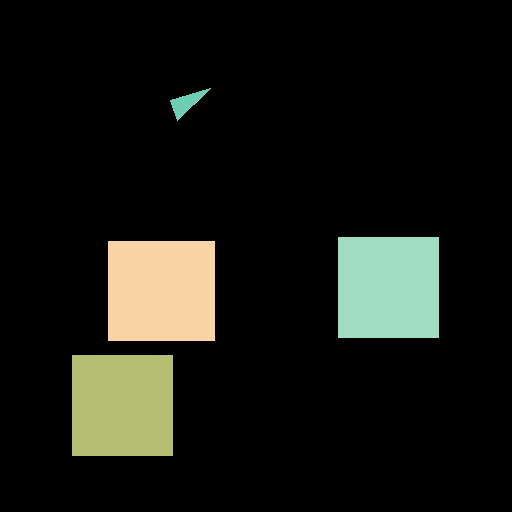square: (108, 241, 214, 340), (72, 355, 172, 455), (338, 237, 438, 337)
triangle: (170, 88, 210, 120)
